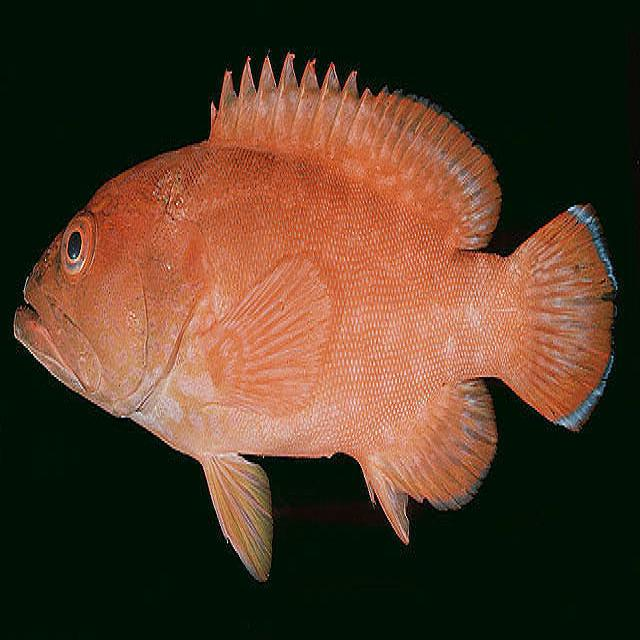ikan: (12, 48, 618, 584)
